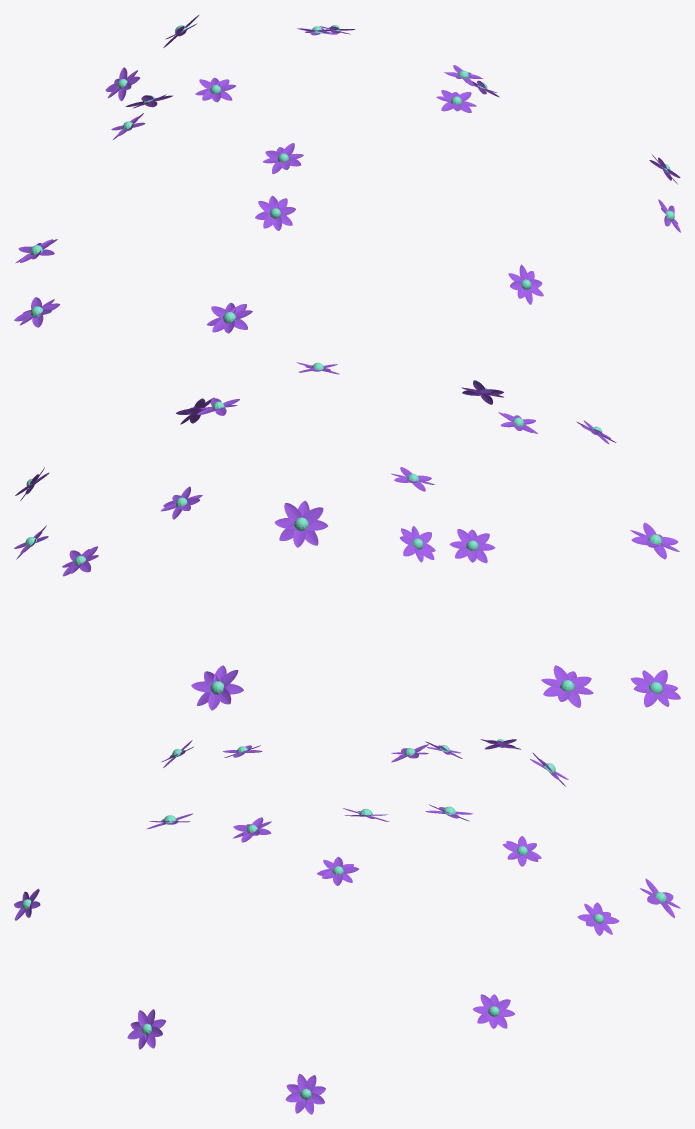
The model's file is เดซี่ม่วง.fbx.
The picture shows the model from 3 angles, top to bottom: view 1: azimuth 30°, elevation 25°; view 2: azimuth 150°, elevation 25°; view 3: azimuth 270°, elevation 25°; orthographic projection. The views are drawn at different scales.
Parts seen in each view (by area): view 1: ระนาบ.016, ระนาบ.005, ระนาบ.001, ระนาบ.008, ระนาบ.007, ระนาบ.018, ระนาบ.012; view 2: ระนาบ.014, ระนาบ.017, ระนาบ.015, ระนาบ.018, ระนาบ.004, ระนาบ.011, ระนาบ.016; view 3: ระนาบ.002, ระนาบ.010, ระนาบ.009, ระนาบ.003, ระนาบ.006, ระนาบ.013.
Part boxes in pixels (<box>): ระนาบ.016: <box>206,302,252,333</box>; ระนาบ.005: <box>255,195,295,230</box>; ระนาบ.001: <box>508,264,543,304</box>; ระนาบ.008: <box>263,143,303,173</box>; ระนาบ.007: <box>195,77,235,102</box>; ระนาบ.018: <box>14,297,59,327</box>; ระนาบ.012: <box>436,90,476,112</box>; ระนาบ.014: <box>274,500,327,547</box>; ระนาบ.017: <box>191,665,243,710</box>; ระนาบ.015: <box>541,665,593,707</box>; ระนาบ.018: <box>630,670,680,707</box>; ระนาบ.004: <box>449,529,495,563</box>; ระนาบ.011: <box>400,526,435,562</box>; ระนาบ.016: <box>630,522,679,559</box>; ระนาบ.002: <box>285,1073,325,1114</box>; ระนาบ.010: <box>473,994,514,1028</box>; ระนาบ.009: <box>127,1009,165,1049</box>; ระนาบ.003: <box>577,902,619,935</box>; ระนาบ.006: <box>317,856,358,885</box>; ระนาบ.013: <box>502,836,541,866</box>.
Size of the model in its own units: 237 by 65.35 by 213.
